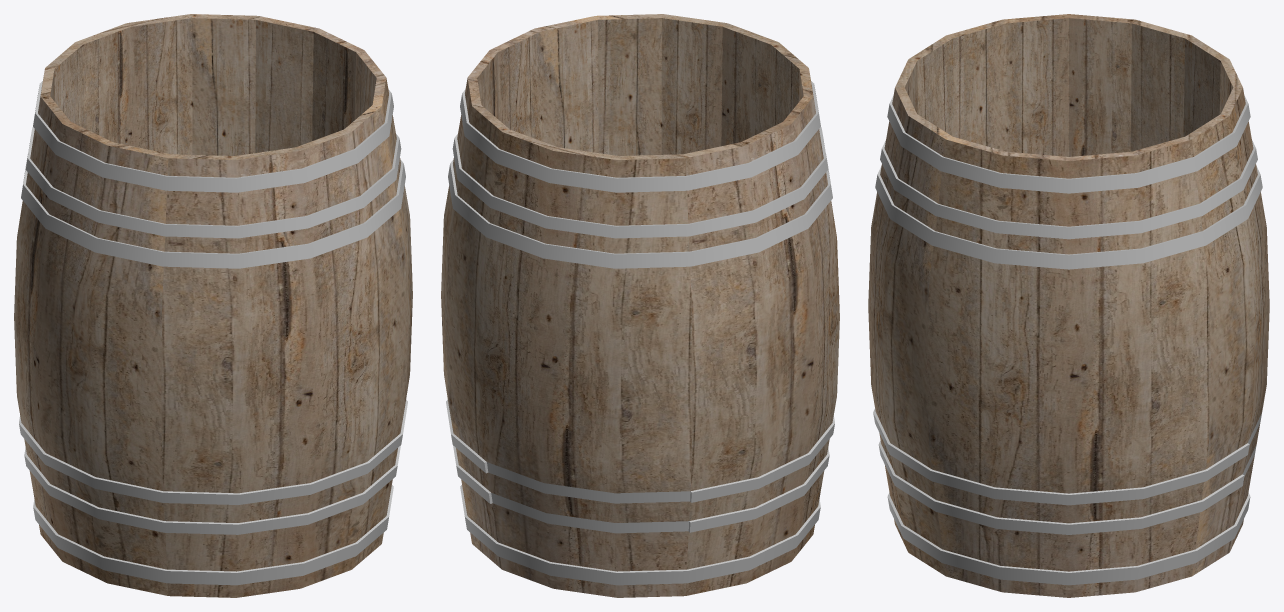
Rendered from woodenBarrelAnimatedWater.FBX.
3 renders of one model, left to right at view 1: azimuth 30°, elevation 25°; view 2: azimuth 150°, elevation 25°; view 3: azimuth 270°, elevation 25°, orthographic.
Parts seen in each view (by area): view 1: woodenBarrel01; view 2: woodenBarrel01; view 3: woodenBarrel01.
Part boxes in pixels (x1,y1,x2,y2): woodenBarrel01: (14,14,412,597); woodenBarrel01: (441,14,839,597); woodenBarrel01: (868,14,1269,597).
Size of the model in its own units: 0.7496 by 0.9 by 0.7496.
